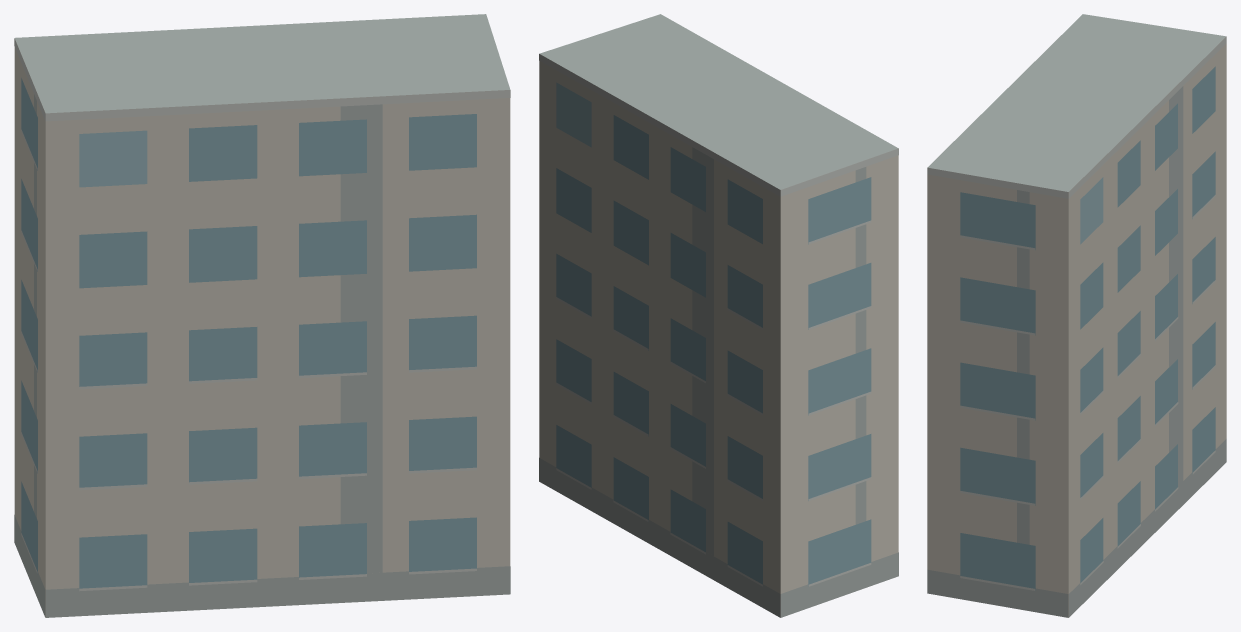
File: survey-upis-32739673.glb
3 views of the same model, side by side, from view 1: azimuth 30°, elevation 25°; view 2: azimuth 150°, elevation 25°; view 3: azimuth 270°, elevation 25° (orthographic). The views are drawn at different scales.
Visible parts, largest first — view 1: survey-upis-32739673.tmp; view 2: survey-upis-32739673.tmp; view 3: survey-upis-32739673.tmp.
Boxes of the visible parts, x1,y1,x2,y2 form: survey-upis-32739673.tmp: [14, 14, 510, 617]; survey-upis-32739673.tmp: [539, 14, 898, 617]; survey-upis-32739673.tmp: [927, 14, 1226, 617].
Size of the model in its own units: 13.68 by 15.25 by 9.72.
